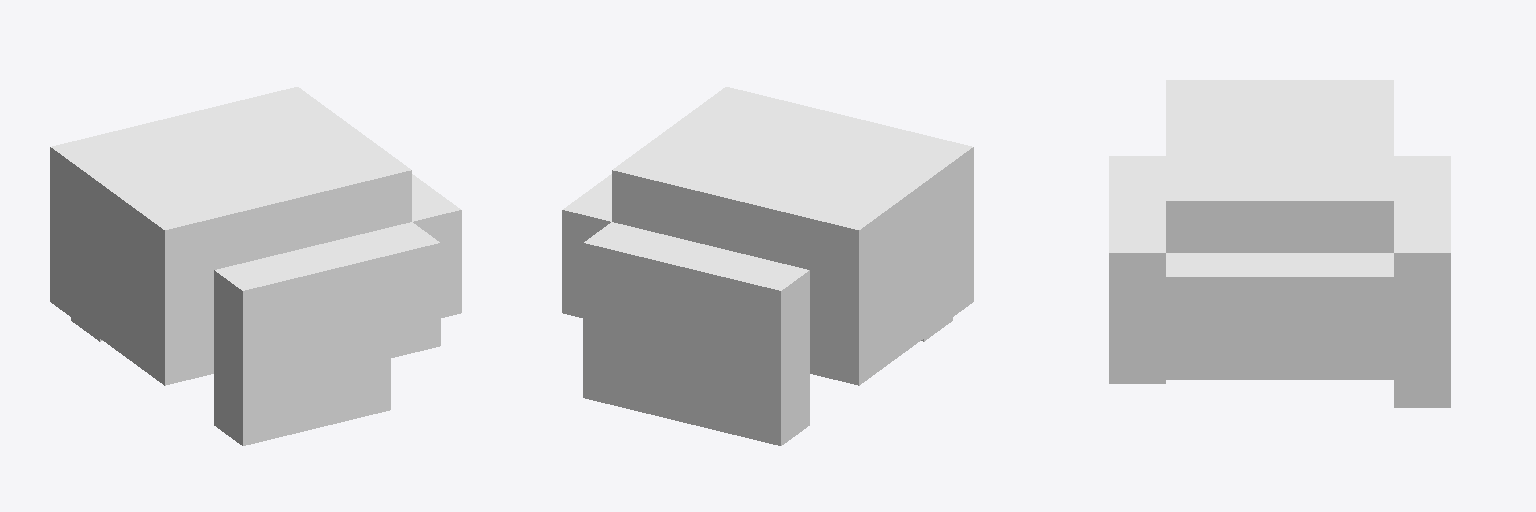
Rendered from male-41.obj.
3 views of the same model, side by side, from view 1: azimuth 30°, elevation 25°; view 2: azimuth 150°, elevation 25°; view 3: azimuth 270°, elevation 25° (orthographic).
Visible parts, largest first — view 1: object 1; view 2: object 1; view 3: object 1.
Boxes of the visible parts, x1,y1,x2,y2 form: object 1: [50, 87, 461, 445]; object 1: [562, 87, 973, 445]; object 1: [1109, 80, 1450, 407].
Size of the model in its own units: 0.6 by 0.4 by 0.6.